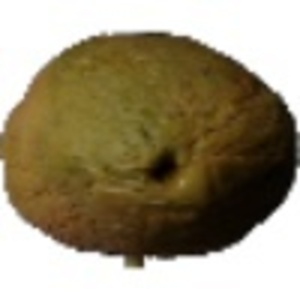mamão: (7, 25, 290, 253)
